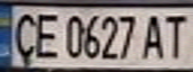0: (60, 11, 84, 61)
2: (100, 11, 121, 61)
6: (81, 11, 103, 61)
7: (115, 11, 142, 61)
A: (139, 11, 169, 61)
C: (6, 9, 42, 62)
E: (30, 9, 63, 61)
T: (160, 11, 190, 60)
